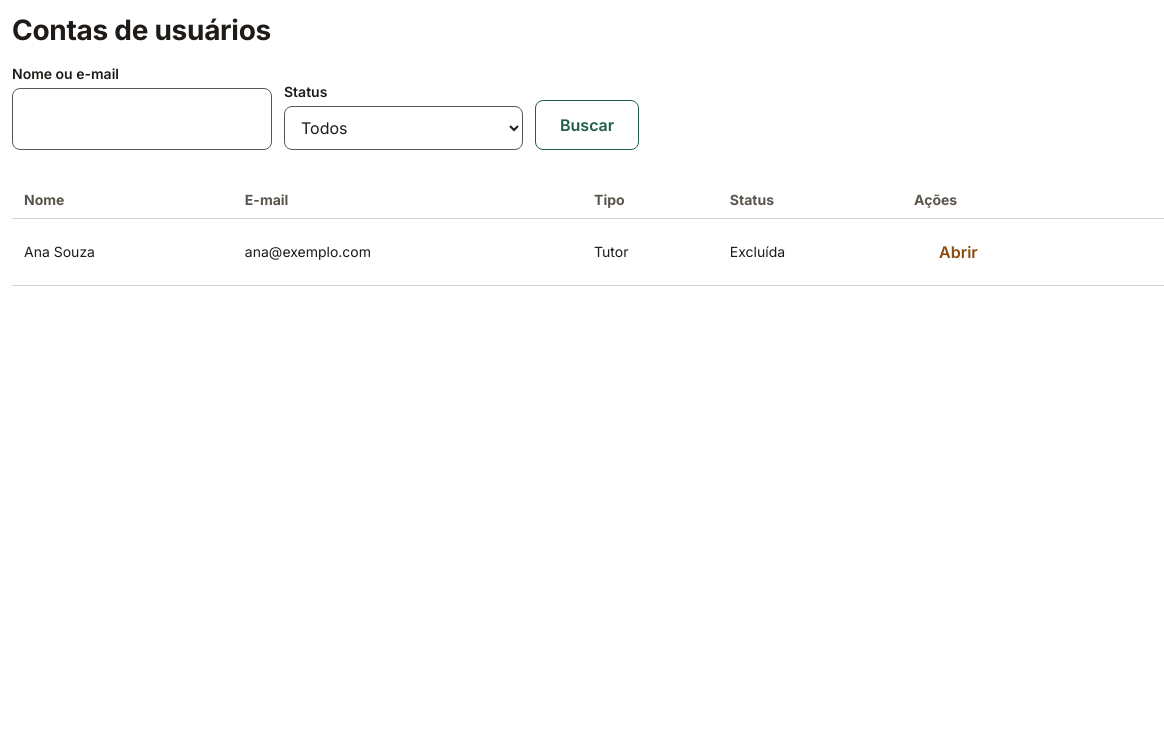
Gestão de contas na administração (UC-28) › deve filtrar pelo status e não oferecer ação para conta excluída
The image size is (1164, 732).
Expected: the table is shown, [12,182,1163,286]
Select "Excluída" in the dropdown labelled "Status" at (404, 128), box [284,106,523,150]
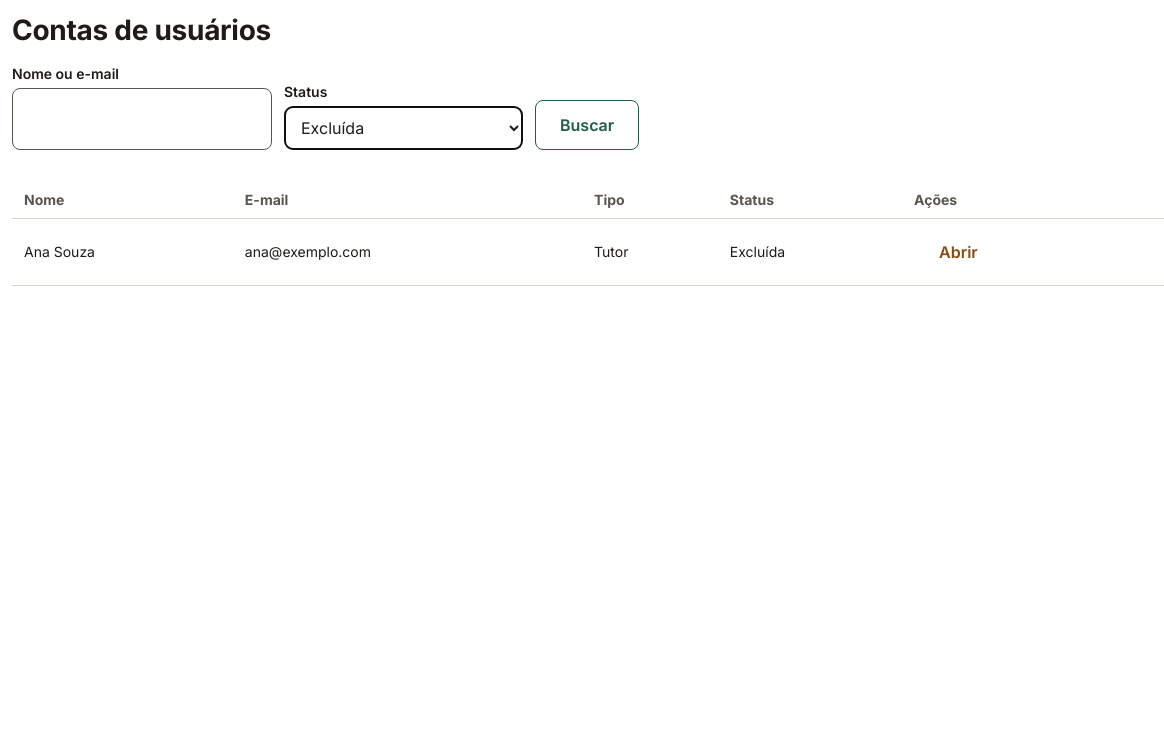
Click the button "Buscar" at (587, 125), box [535,100,639,150]
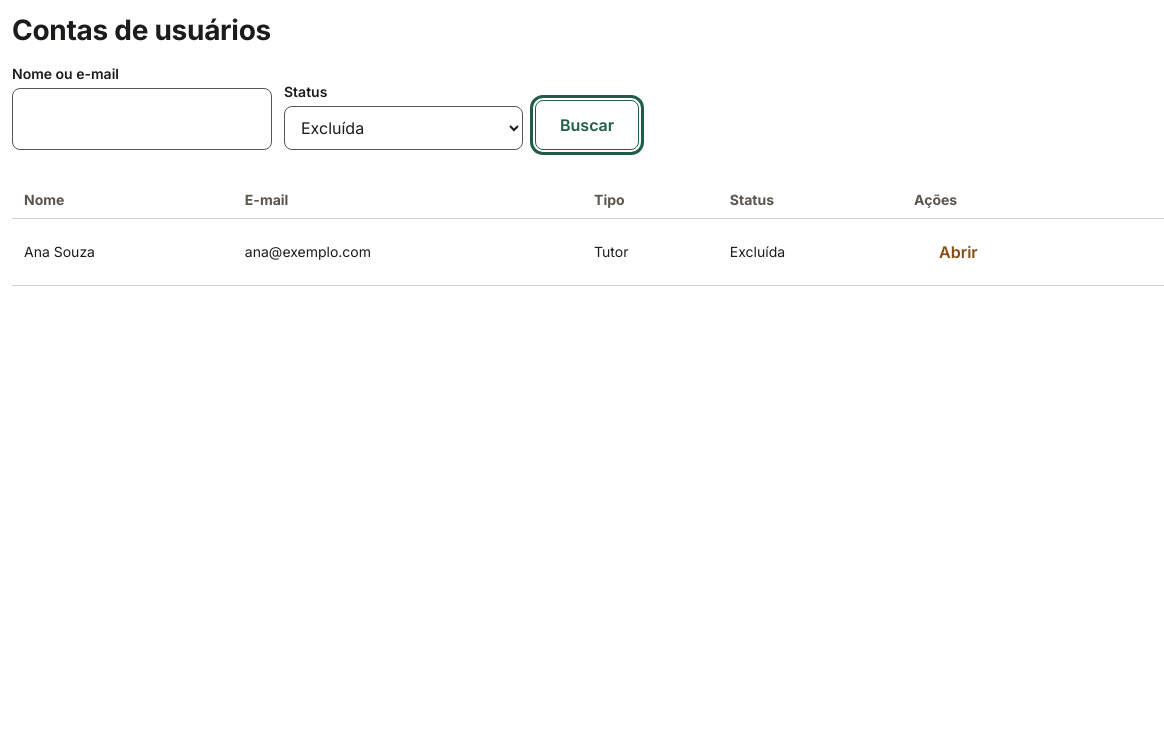
Click the button with aria-label "Abrir a conta de Ana Souza" at (958, 252), box [914,227,1003,277]
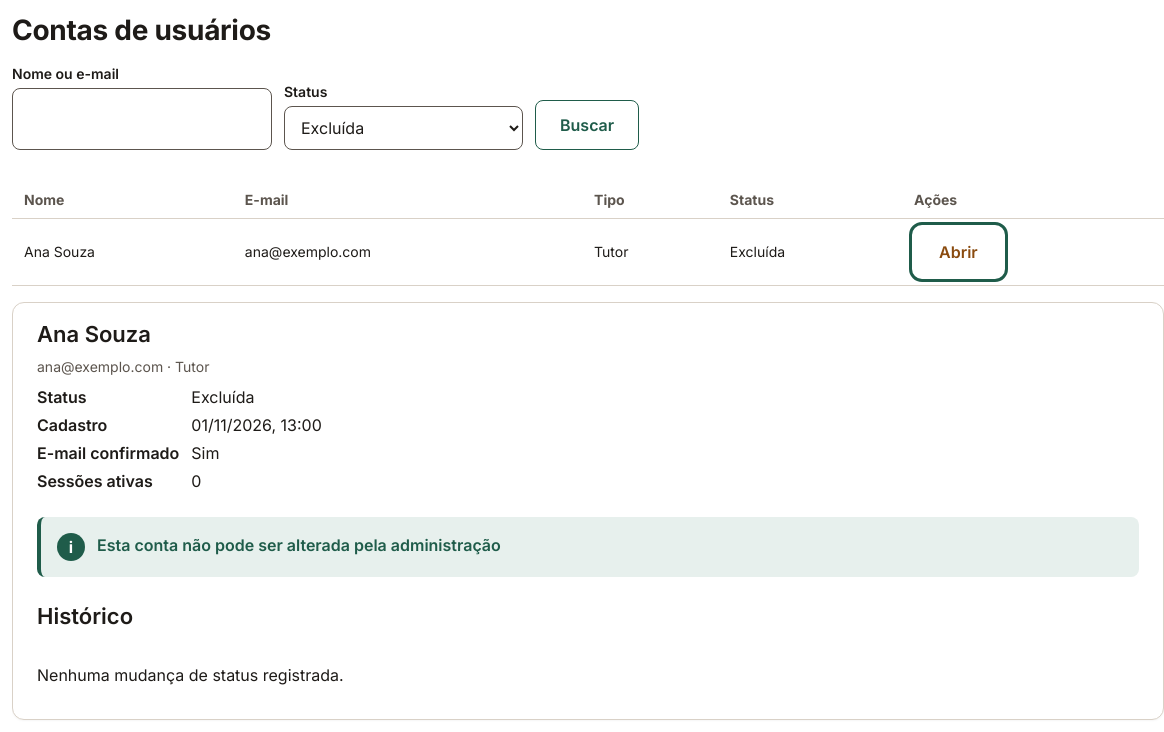
Expected: the text "Esta conta não pode ser alterada pela administração" is shown, [97,533,501,557]
